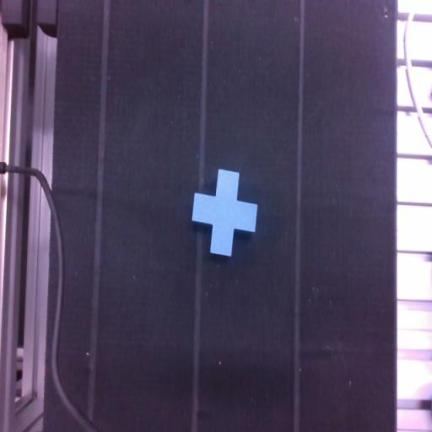cross: (192, 169, 257, 256), (193, 170, 257, 256)
